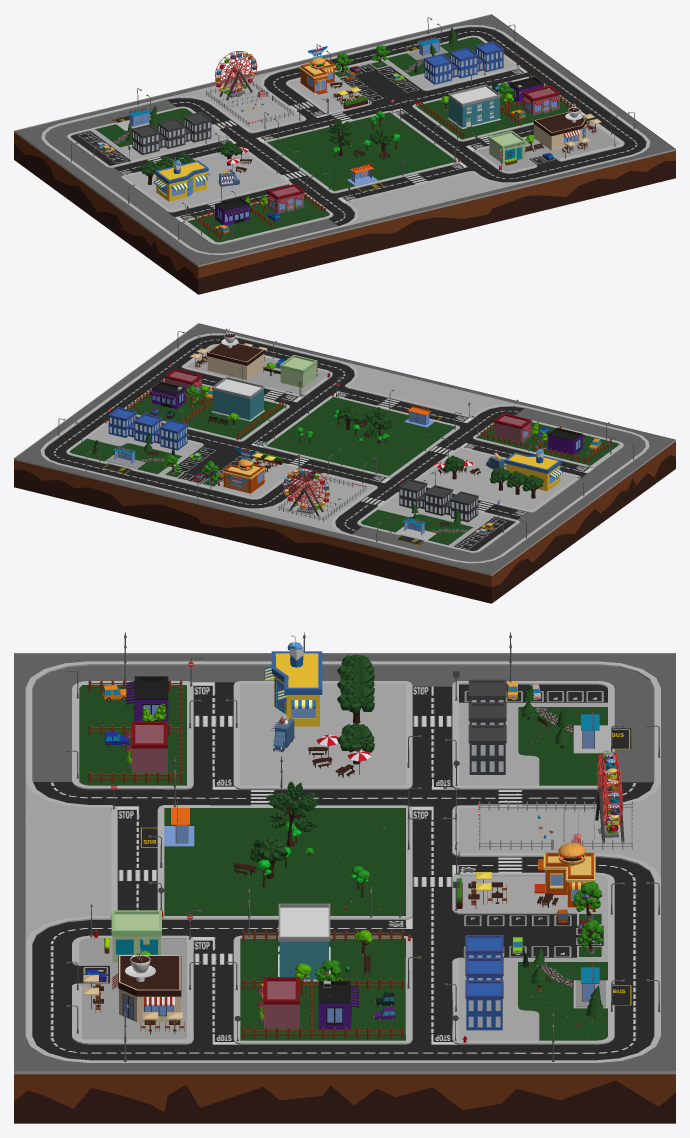
Rendered from CITY.glb.
3 renders of one model, top to bottom at view 1: azimuth 30°, elevation 25°; view 2: azimuth 150°, elevation 25°; view 3: azimuth 270°, elevation 25°, orthographic. The views are drawn at different scales.
Parts seen in each view (by area): view 1: Casa_03; view 2: Casa_03; view 3: Casa_03.
Boxes of the visible parts, box(x1,y1,x2,y2) form: Casa_03: box(14, 14, 675, 294); Casa_03: box(14, 323, 675, 603); Casa_03: box(14, 632, 675, 1123).
Size of the model in its own units: 136 by 28.9 by 90.76.
Materials: 29 (17 with a texture image).
